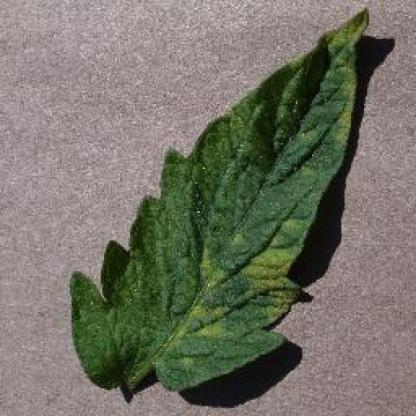Tomato_Leaf_Mold: (69, 9, 369, 383)
